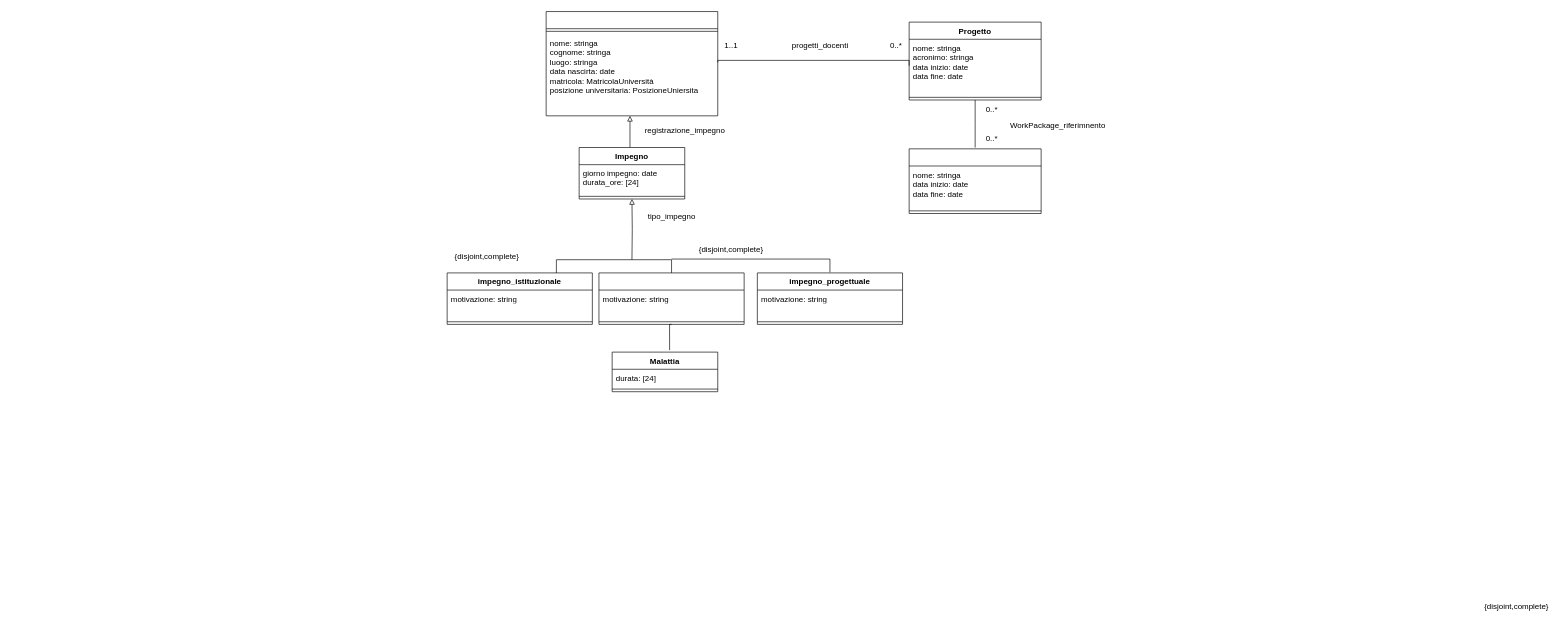
The diagram is 1567 pixels wide and 628 high, and some of its shapes have lost their labels. Here are the shapes that lost their labels. From the top down, the box of each, then its label:
(545, 11, 718, 116): Docente universitari
(908, 148, 1041, 214): Work Package
(598, 272, 744, 324): assenza
